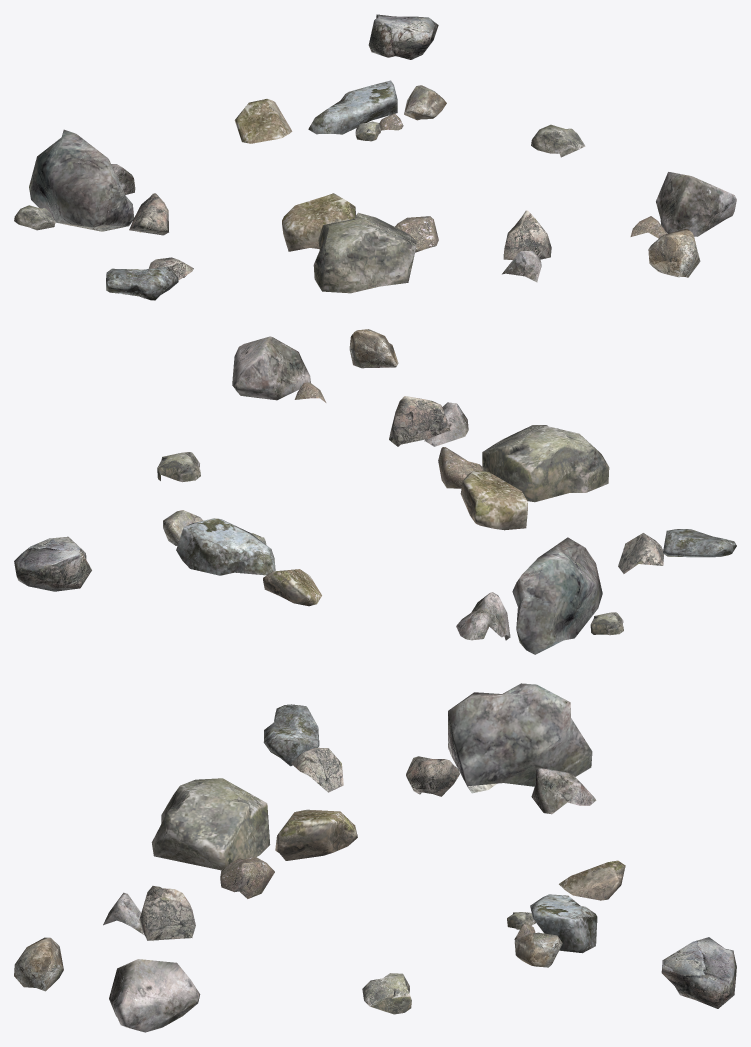
The model's file is proc_stones_06.FBX.
3 renders of one model, top to bottom at view 1: azimuth 30°, elevation 25°; view 2: azimuth 150°, elevation 25°; view 3: azimuth 270°, elevation 25°, orthographic. The views are drawn at different scales.
Parts seen in each view (by area): view 1: proc_stones_06; view 2: proc_stones_06; view 3: proc_stones_06.
Part boxes in pixels (box(x1,y1,x2,y2)): proc_stones_06: box(14, 14, 736, 300); proc_stones_06: box(14, 329, 736, 654); proc_stones_06: box(14, 683, 736, 1032).
Size of the model in its own units: 0.9971 by 0.9893 by 0.1499.
Materials: 1 (1 with a texture image).
